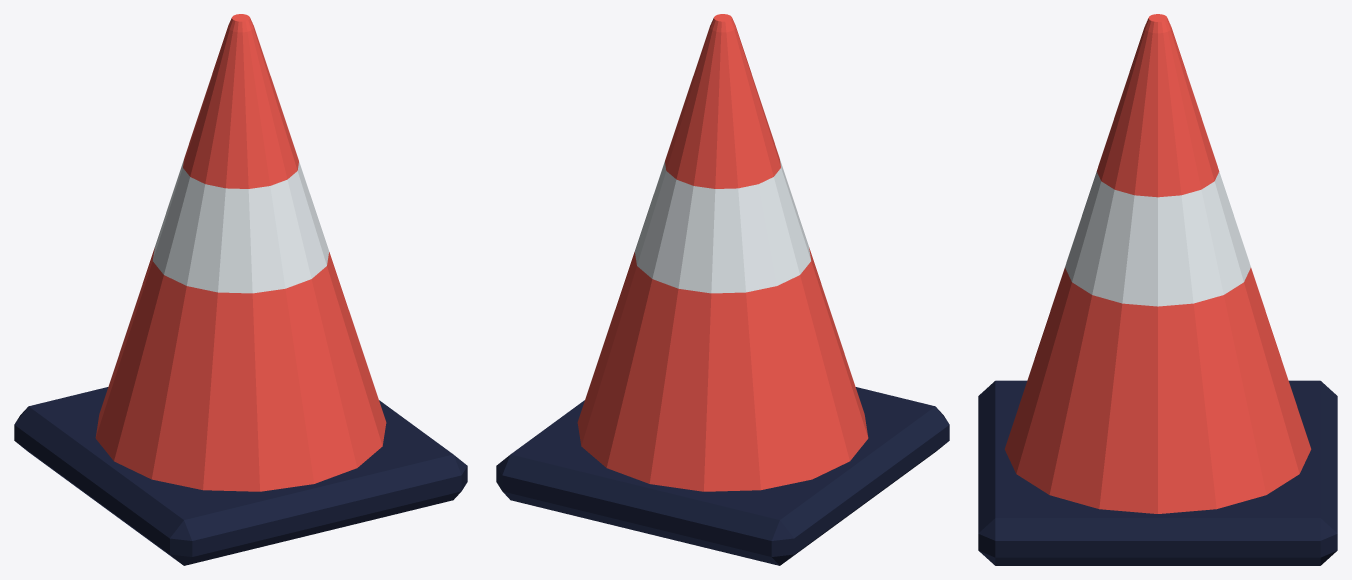
The model's file is P_traffic_cone.glb.
The picture shows the model from 3 angles, left to right: view 1: azimuth 30°, elevation 25°; view 2: azimuth 150°, elevation 25°; view 3: azimuth 270°, elevation 25°; orthographic projection. The views are drawn at different scales.
Parts seen in each view (by area): view 1: Cone_OrangeLower, Base, Cone_WhiteBand, Cone_OrangeTop; view 2: Cone_OrangeLower, Base, Cone_WhiteBand, Cone_OrangeTop; view 3: Cone_OrangeLower, Base, Cone_WhiteBand, Cone_OrangeTop.
Boxes of the visible parts, left/top/right/bottom form: Cone_OrangeLower: left=95, top=247, right=386, bottom=491; Base: left=14, top=387, right=467, bottom=565; Cone_WhiteBand: left=153, top=160, right=329, bottom=293; Cone_OrangeTop: left=183, top=14, right=298, bottom=188; Cone_OrangeLower: left=577, top=247, right=868, bottom=491; Base: left=496, top=387, right=949, bottom=565; Cone_WhiteBand: left=634, top=160, right=810, bottom=293; Cone_OrangeTop: left=665, top=14, right=780, bottom=188; Cone_OrangeLower: left=1004, top=268, right=1311, bottom=513; Base: left=978, top=380, right=1337, bottom=565; Cone_WhiteBand: left=1065, top=172, right=1250, bottom=306; Cone_OrangeTop: left=1096, top=14, right=1219, bottom=197.
Bounding box in the file's own units: 0.34 × 0.5 × 0.34.
